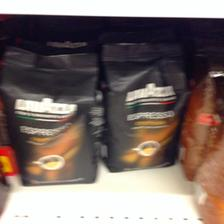Kaffee: (1, 43, 100, 185), (97, 32, 186, 172)
